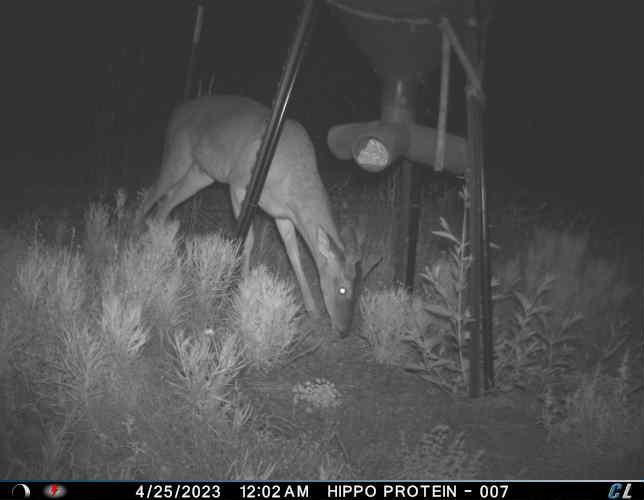Deer: (129, 87, 383, 341)
